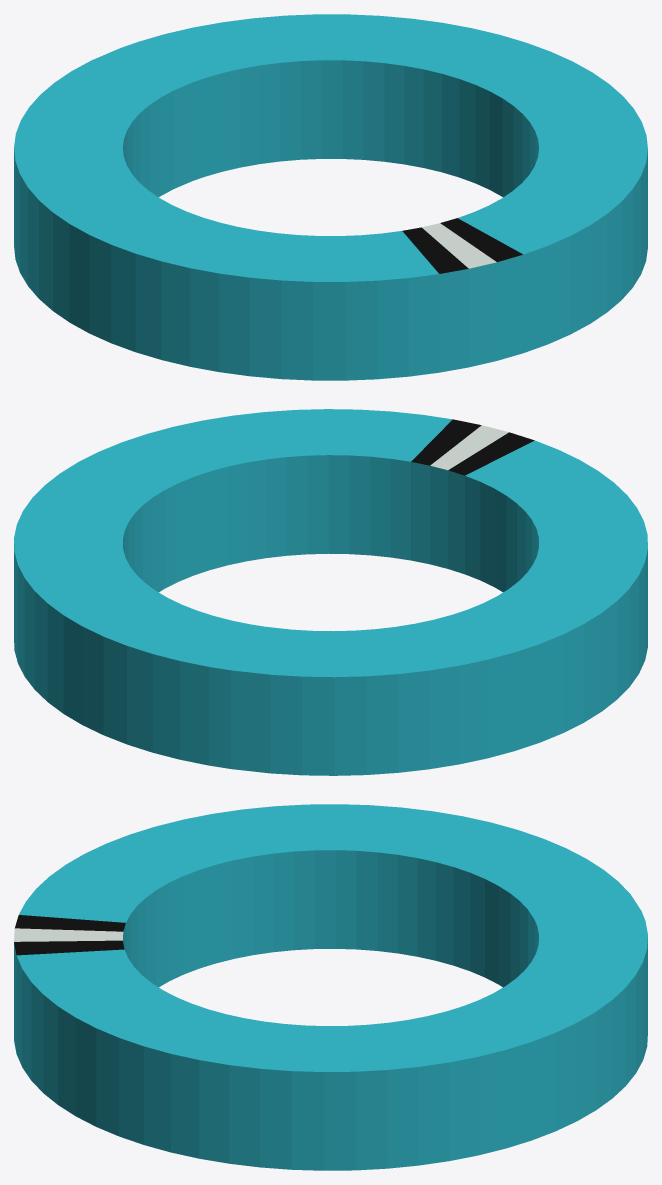
The picture shows the model from 3 angles, top to bottom: view 1: azimuth 30°, elevation 25°; view 2: azimuth 150°, elevation 25°; view 3: azimuth 270°, elevation 25°; orthographic projection.
Parts seen in each view (by area): view 1: Cube; view 2: Cube; view 3: Cube.
Part boxes in pixels (x1,y1,x2,y2): Cube: (14,14,647,380); Cube: (14,409,647,775); Cube: (14,804,647,1170).
Size of the model in its own units: 1165 by 200 by 1165.
